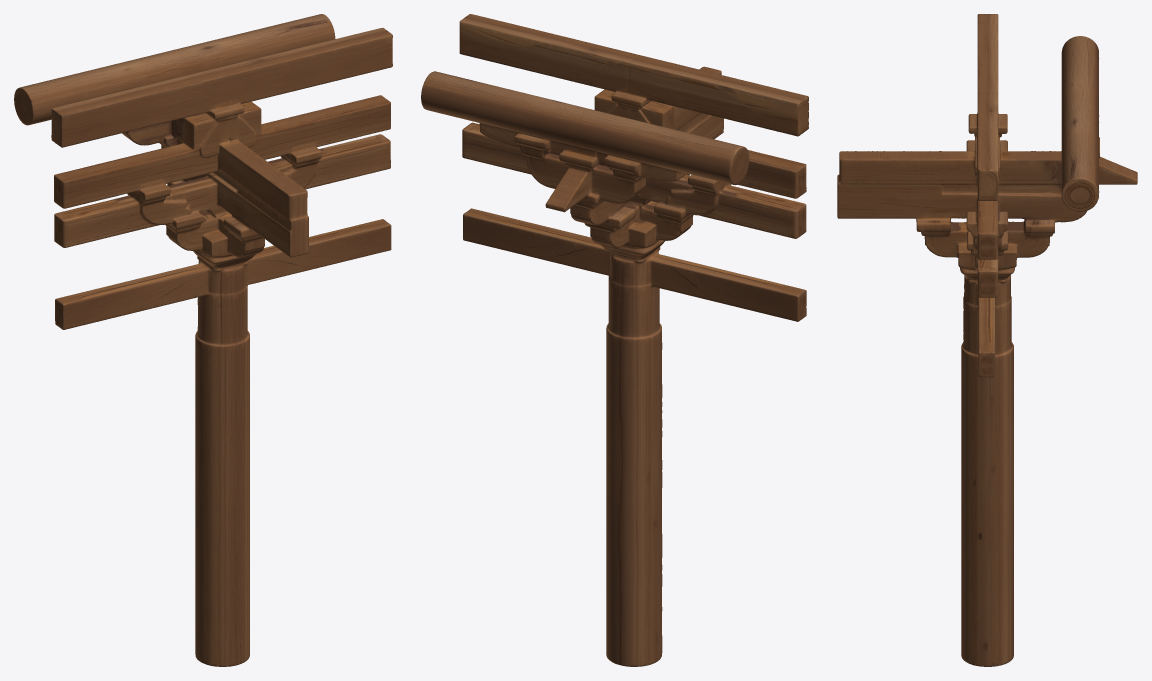
Rendered from 三出阙.glb.
3 views of the same model, side by side, from view 1: azimuth 30°, elevation 25°; view 2: azimuth 150°, elevation 25°; view 3: azimuth 270°, elevation 25° (orthographic). The views are drawn at different scales.
Size of the model in its own units: 1.13 by 1.9 by 0.9157.
Materials: 1 (1 with a texture image).
